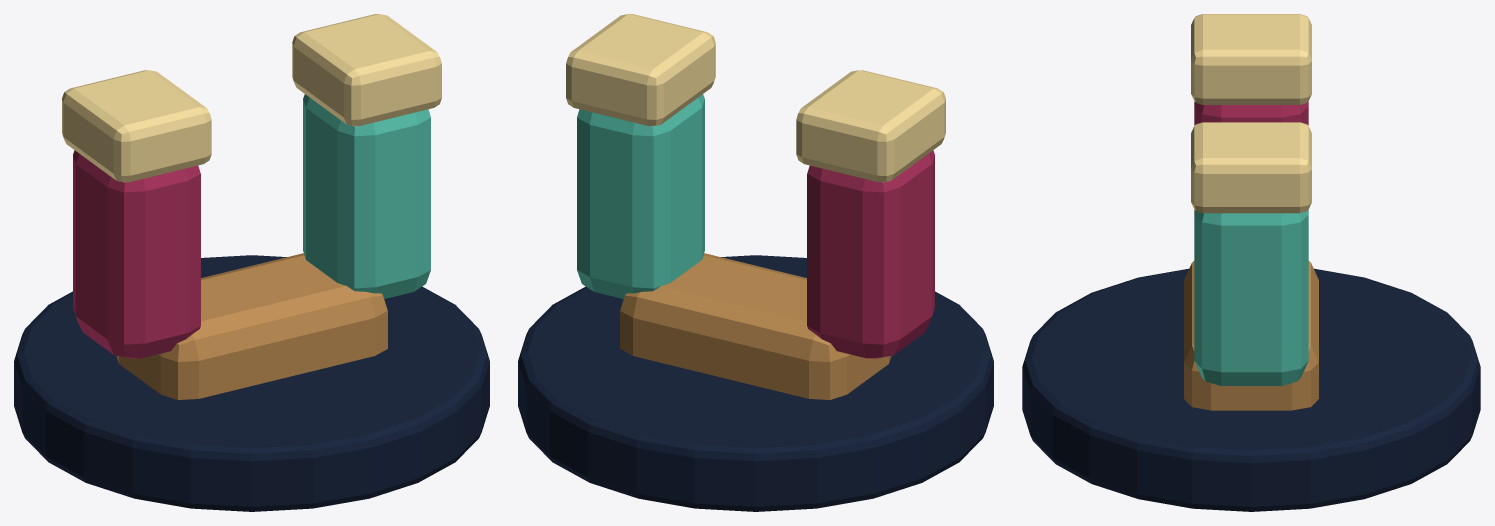
The model's file is Item_magnet_hat.fbx.
The picture shows the model from 3 angles, left to right: view 1: azimuth 30°, elevation 25°; view 2: azimuth 150°, elevation 25°; view 3: azimuth 270°, elevation 25°; orthographic projection. The views are drawn at different scales.
Parts seen in each view (by area): view 1: Item_magnet_hat.Mesh; view 2: Item_magnet_hat.Mesh; view 3: Item_magnet_hat.Mesh.
Part boxes in pixels (x1,y1,x2,y2): Item_magnet_hat.Mesh: (14,14,489,511); Item_magnet_hat.Mesh: (518,14,993,511); Item_magnet_hat.Mesh: (1022,14,1480,511).
Size of the model in its own units: 68 by 54.5 by 68.
